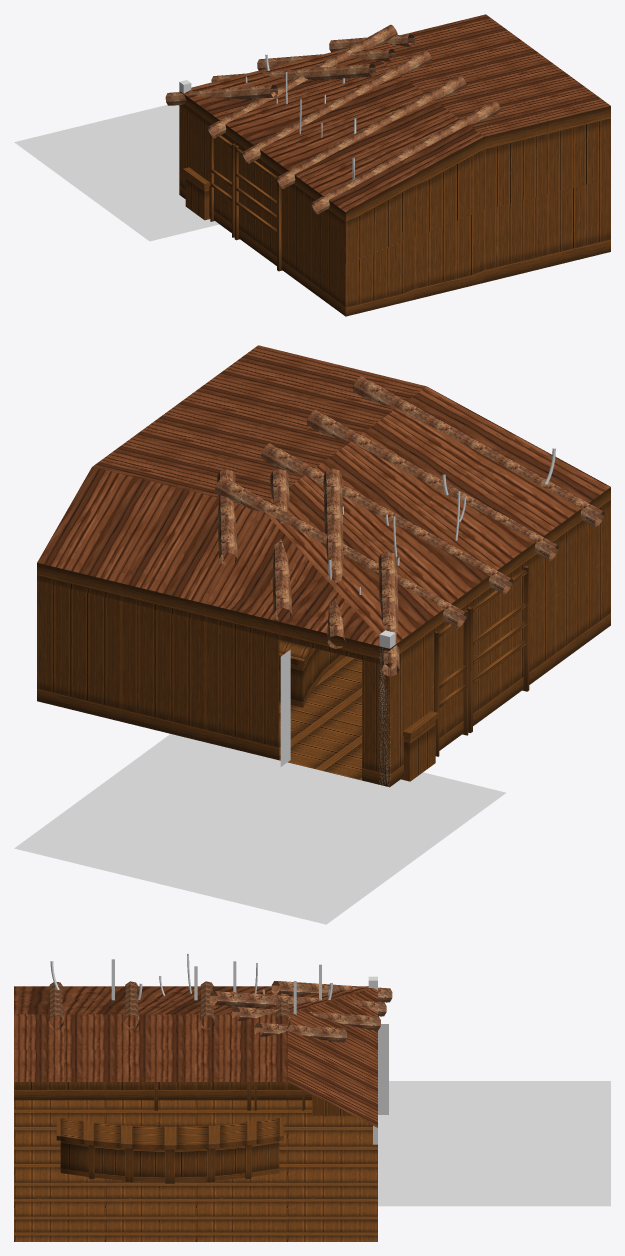
File: shop.glb
3 renders of one model, top to bottom at view 1: azimuth 30°, elevation 25°; view 2: azimuth 150°, elevation 25°; view 3: azimuth 270°, elevation 25°, orthographic. The views are drawn at different scales.
Parts seen in each view (by area): view 1: Plane, Plane.012, Plane.001, Cylinder.004, Cylinder.001, Plane.004, Plane.007, Plane.005, Plane.009; view 2: Plane.012, Plane, Plane.001, Cylinder.004, Cylinder.001, Plane.011, Plane.002, Plane.004, Plane.006, Plane.007, Plane.005, Plane.009 (+1 smaller); view 3: Plane.011, Plane.012, Plane.001, Plane.002, Plane, Cylinder.001, Cylinder.004, Plane.003, Plane.006, Plane.004.
Boxes of the visible parts, bbox=[...] form: Plane: bbox=[179, 91, 610, 316]; Plane.012: bbox=[184, 14, 610, 212]; Plane.001: bbox=[14, 105, 219, 241]; Cylinder.004: bbox=[208, 24, 501, 214]; Cylinder.001: bbox=[165, 34, 414, 105]; Plane.004: bbox=[183, 167, 210, 220]; Plane.007: bbox=[234, 145, 282, 271]; Plane.005: bbox=[236, 148, 277, 233]; Plane.009: bbox=[210, 134, 235, 237]; Plane.012: bbox=[37, 345, 610, 646]; Plane: bbox=[37, 487, 610, 787]; Plane.001: bbox=[14, 734, 506, 924]; Cylinder.004: bbox=[215, 376, 604, 627]; Cylinder.001: bbox=[217, 468, 399, 676]; Plane.011: bbox=[279, 656, 361, 780]; Plane.002: bbox=[279, 640, 345, 707]; Plane.004: bbox=[401, 711, 438, 781]; Plane.006: bbox=[280, 649, 352, 783]; Plane.007: bbox=[467, 565, 529, 732]; Plane.005: bbox=[472, 570, 527, 683]; Plane.009: bbox=[434, 610, 468, 756]; Plane.011: bbox=[14, 1100, 377, 1241]; Plane.012: bbox=[14, 986, 377, 1127]; Plane.001: bbox=[378, 1081, 610, 1206]; Plane.002: bbox=[56, 1117, 283, 1181]; Plane: bbox=[14, 1082, 312, 1100]; Cylinder.001: bbox=[209, 981, 392, 1042]; Cylinder.004: bbox=[48, 981, 290, 1030]; Plane.003: bbox=[88, 1145, 251, 1183]; Plane.006: bbox=[373, 1024, 388, 1144]; Plane.004: bbox=[312, 1095, 352, 1115].
Size of the model in its own units: 4.68 by 2.54 by 6.82.
1 material, 1 textured.
